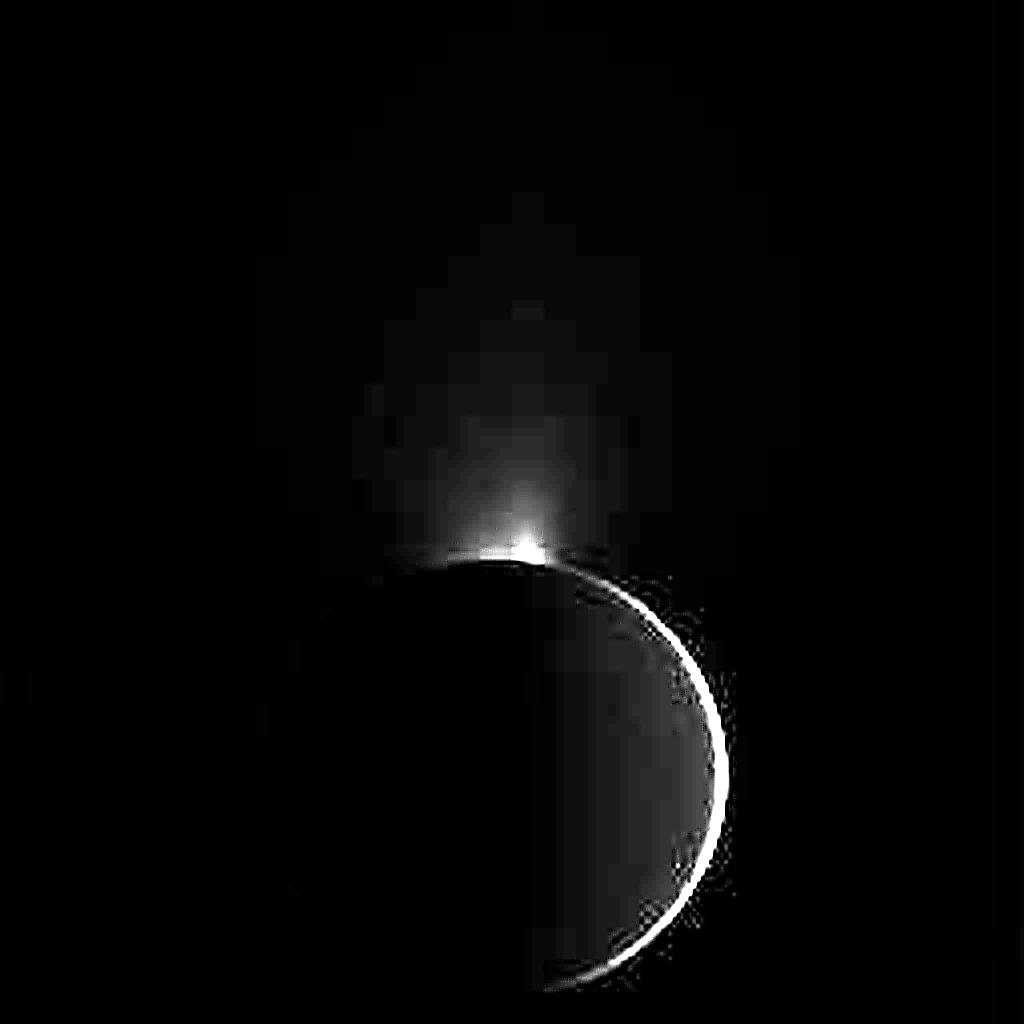plumes: (454, 500, 552, 563)
